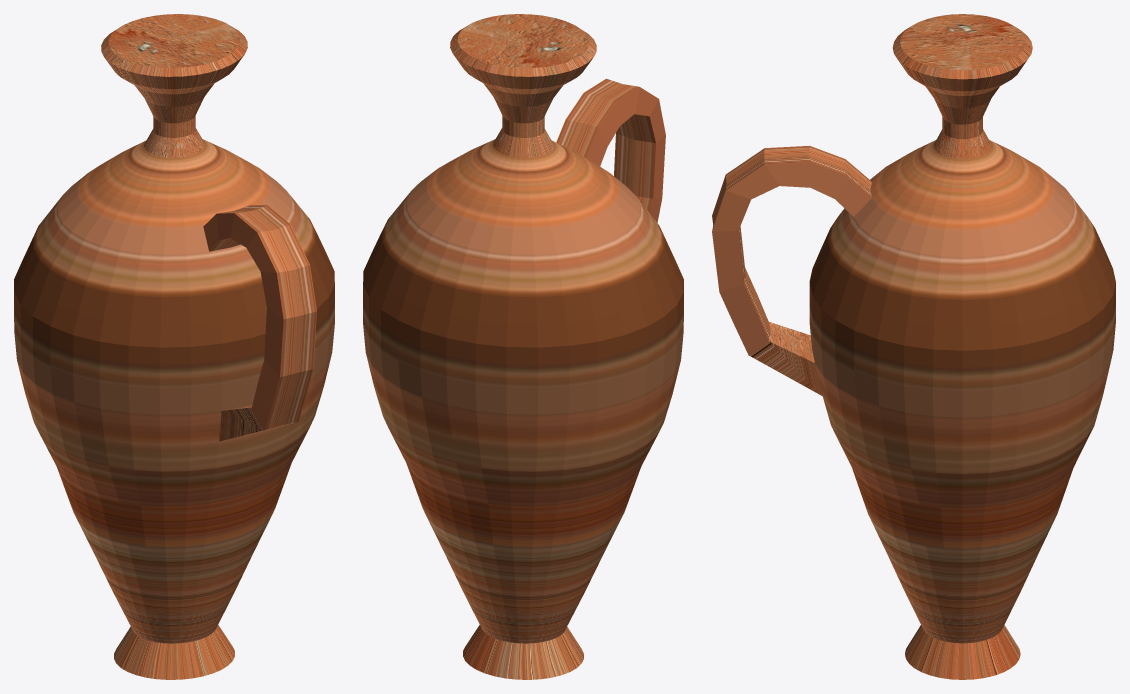
Rendered from Vase1.fbx.
3 views of the same model, side by side, from view 1: azimuth 30°, elevation 25°; view 2: azimuth 150°, elevation 25°; view 3: azimuth 270°, elevation 25° (orthographic).
Parts seen in each view (by area): view 1: Vase2; view 2: Vase2; view 3: Vase2.
Boxes of the visible parts, x1,y1,x2,y2 form: Vase2: [14, 14, 334, 679]; Vase2: [363, 14, 683, 679]; Vase2: [712, 14, 1115, 679].
Size of the model in its own units: 189 by 391 by 234.
